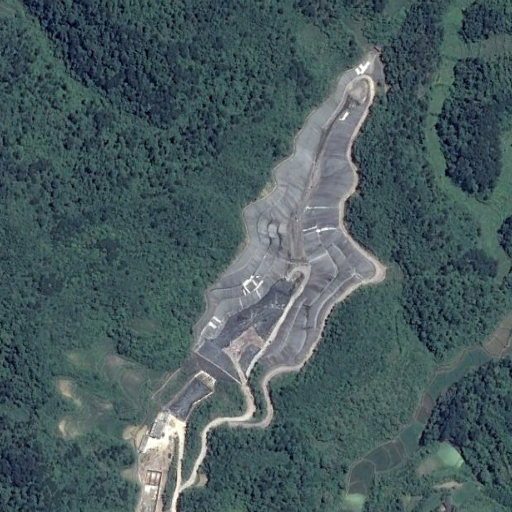lf: (198, 61, 380, 381)
